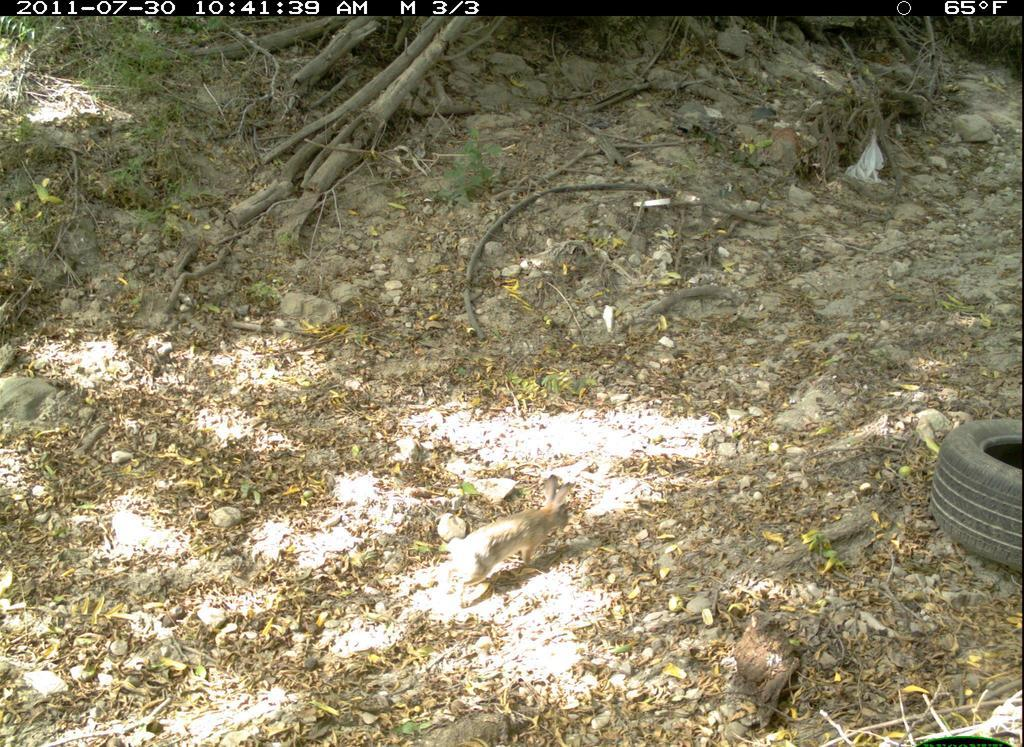rabbit: (437, 470, 574, 607)
